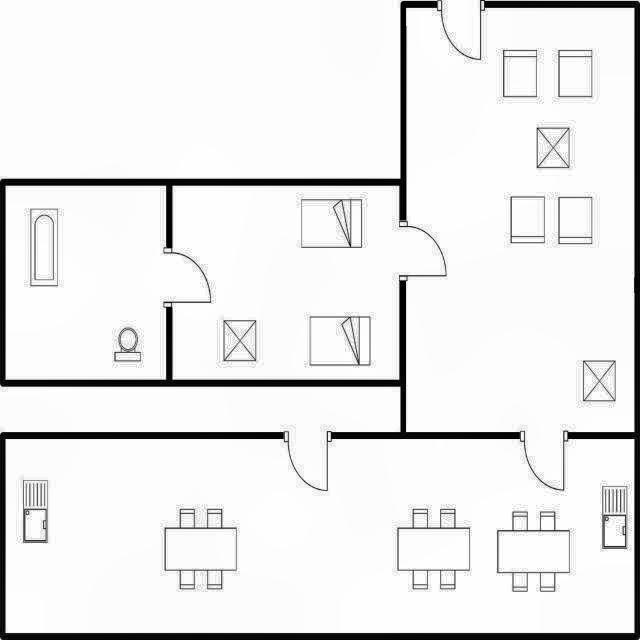room: (7, 439, 635, 632), (407, 9, 634, 431), (173, 185, 399, 380), (6, 186, 165, 378)
